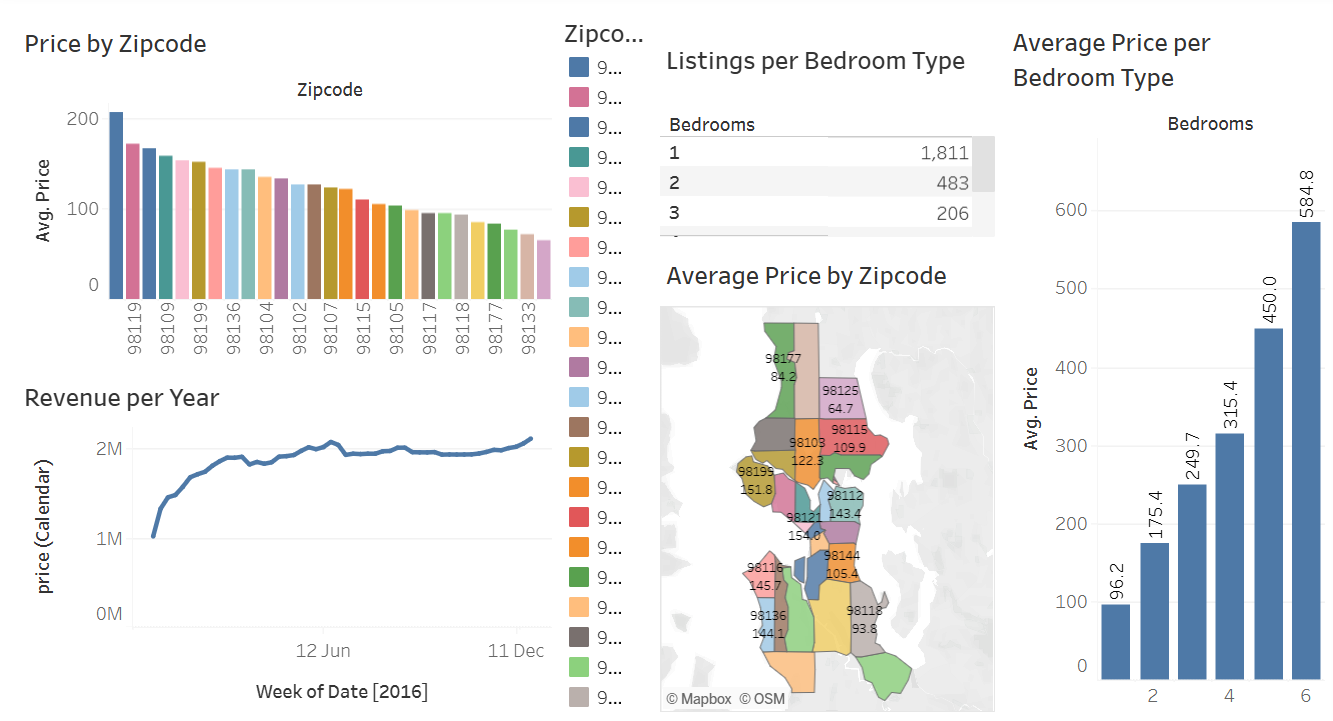

What the dashboard file says about the page in this screenshot:
{"tool":"tableau","page":{"name":"Dashboard 1","canvas":[1000,1000],"units":"permille","ordinal":0},"visuals":[{"type":"worksheet","title":"Price by Zipcode","mark":"Automatic","rows":["price"],"cols":["zipcode"],"box":[5,9.8,409.6,490.2]},{"type":"legend","title":"Price by Zipcode","param":"[federated.166olnh1dc7ica17nx9lw1ihicfb].[none:zipcode:ok]","box":[414.6,9.8,72.9,980.4]},{"type":"worksheet","title":"Listings per Bedroom Type","mark":"Automatic","rows":["bedrooms"],"box":[487.5,9.8,260,322.7]},{"type":"worksheet","title":"Average Price per Bedroom Type","mark":"Automatic","rows":["price"],"cols":["bedrooms"],"box":[747.5,9.8,247.5,980.4]},{"type":"worksheet","title":"Average Price by Zipcode","mark":"Multipolygon","box":[487.5,332.5,260,657.7]},{"type":"worksheet","title":"Revenue per Year","mark":"Automatic","rows":["price (Calendar)"],"cols":["date"],"box":[5,500,409.6,490.2]}]}

Visuals, with their boxes on the dashboard's canvas, which has no fixed pixel size, in thousandths of its width and height (x1, y1, x2, y2). These are canvas units, not pixel positions in the 1333x721 screenshot, which may show the page scaled, cropped or inside an application window:
"Price by Zipcode" worksheet: <box>5,10,415,500</box>
"Price by Zipcode" legend: <box>415,10,488,990</box>
"Listings per Bedroom Type" worksheet: <box>488,10,748,332</box>
"Average Price per Bedroom Type" worksheet: <box>748,10,995,990</box>
"Average Price by Zipcode" worksheet (Multipolygon marks): <box>488,332,748,990</box>
"Revenue per Year" worksheet: <box>5,500,415,990</box>
